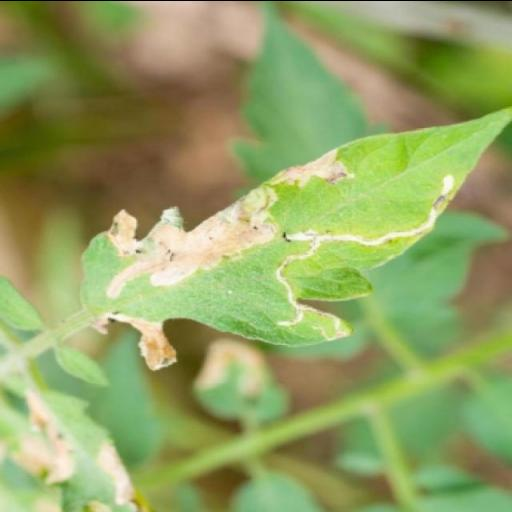Leaf Miner: (74, 104, 512, 342)
